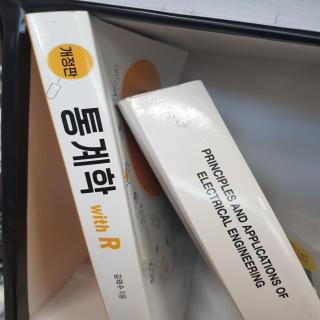book-spine: (126, 63, 320, 320), (23, 1, 151, 320)
